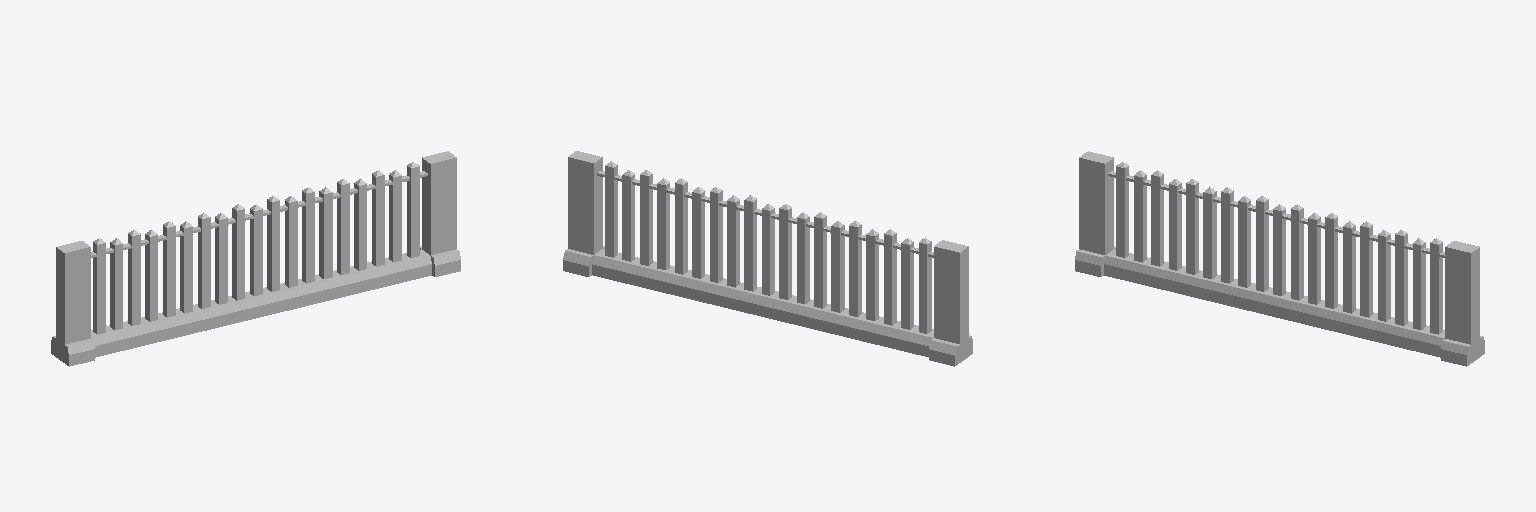
The model's file is fence8.obj.
3 renders of one model, left to right at view 1: azimuth 30°, elevation 25°; view 2: azimuth 150°, elevation 25°; view 3: azimuth 330°, elevation 25°, orthographic.
Parts seen in each view (by area): view 1: FenceLoop.001; view 2: FenceLoop.001; view 3: FenceLoop.001.
Part boxes in pixels (x1,y1,x2,y2): FenceLoop.001: (51,151,460,366); FenceLoop.001: (563,151,972,366); FenceLoop.001: (1075,151,1484,366).
Size of the model in its own units: 4.65 by 1.28 by 0.376.